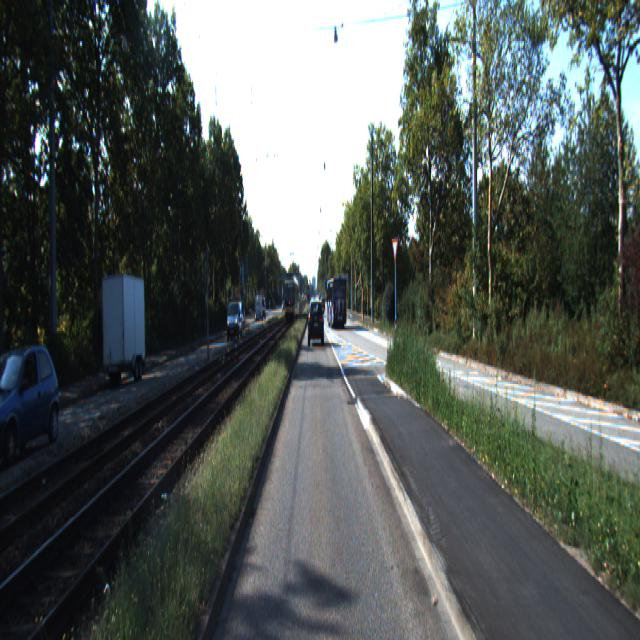Car: (0, 341, 70, 473), (101, 271, 147, 386), (326, 276, 347, 330), (226, 302, 244, 343), (308, 300, 324, 346)
